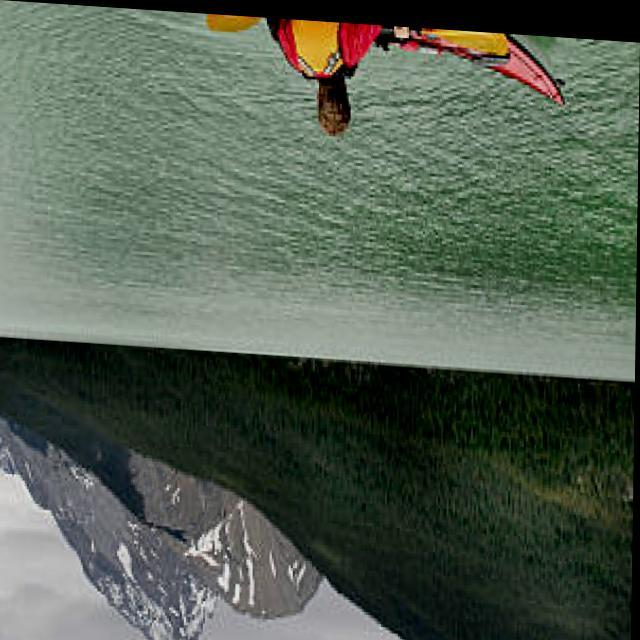kayak: (208, 11, 565, 129)
